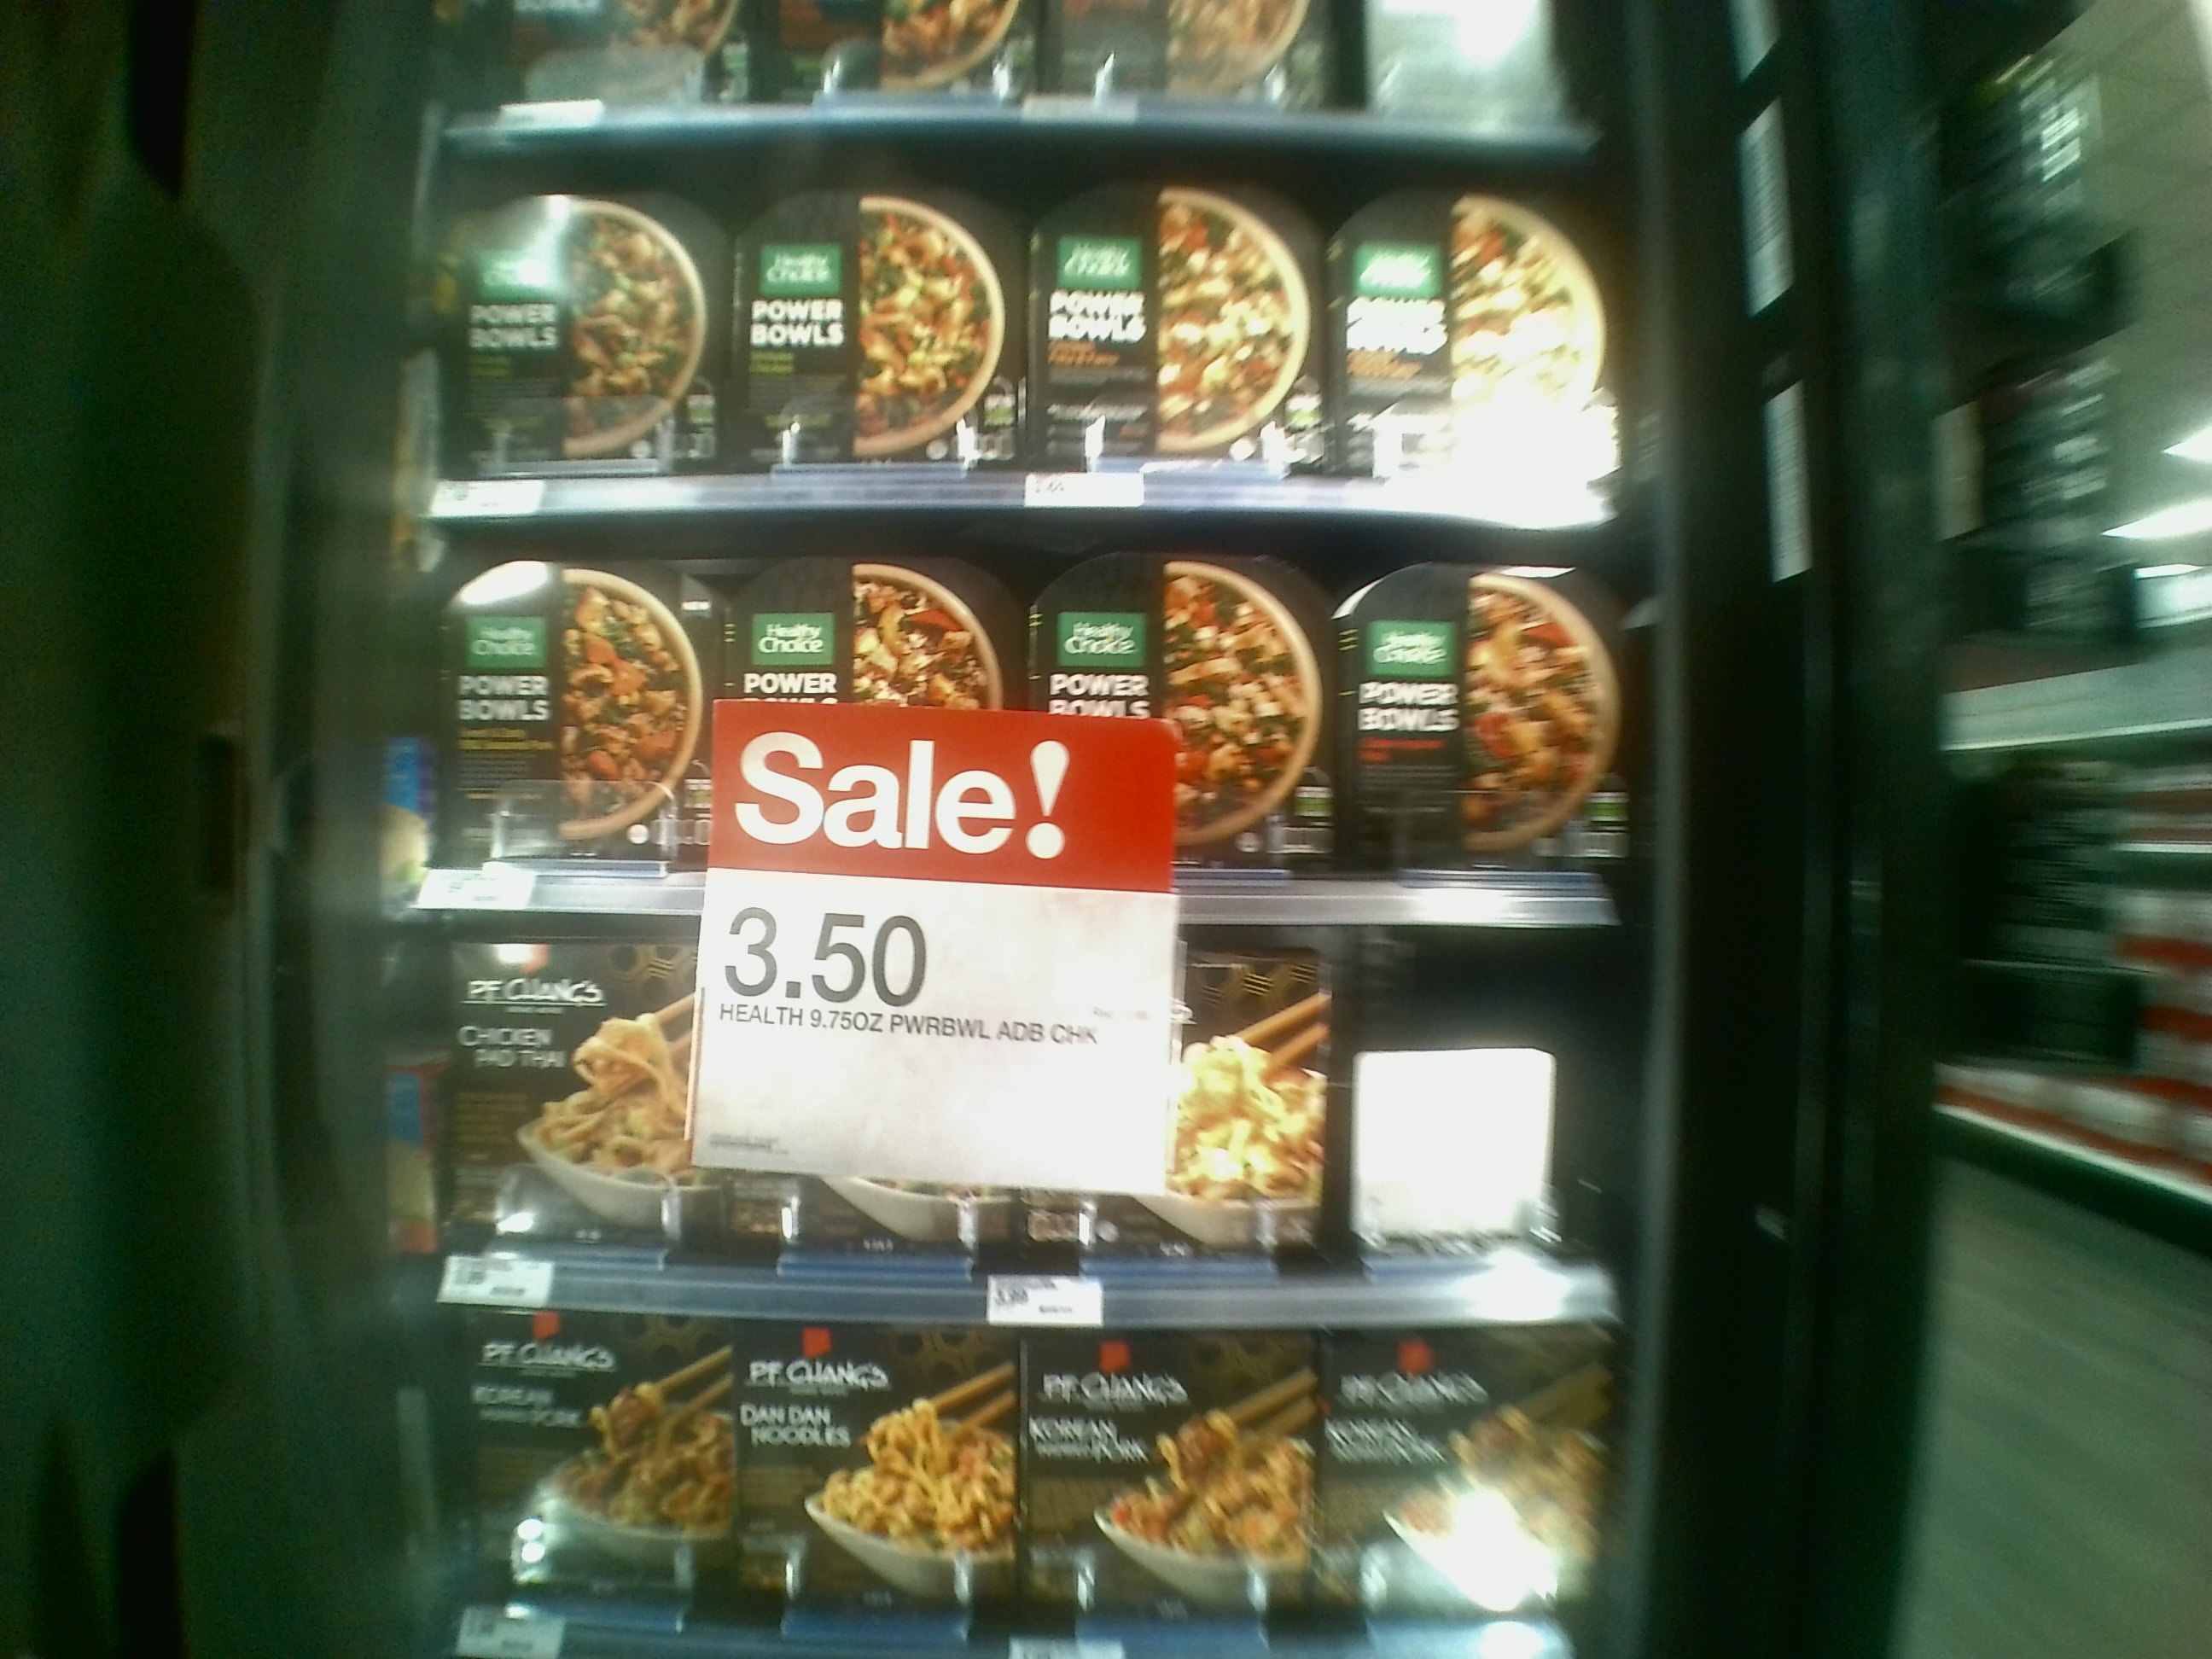shelf: (423, 910, 1618, 1333), (430, 511, 1629, 927), (430, 113, 1606, 507)
